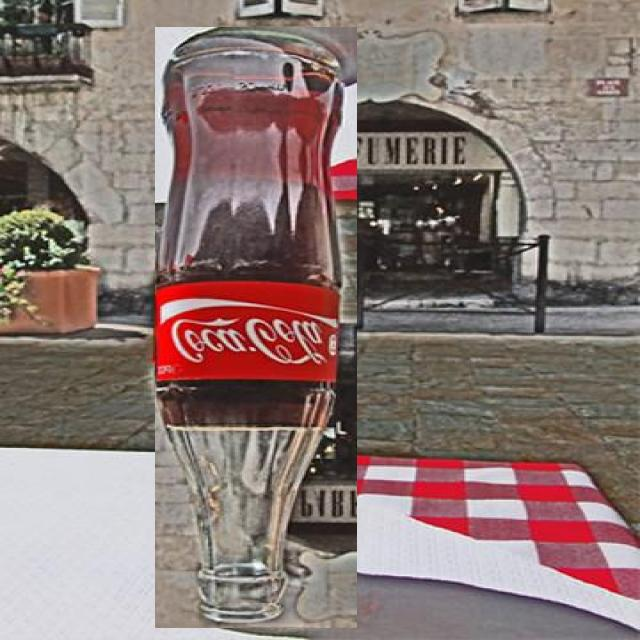coca-cola: (155, 27, 357, 628)
